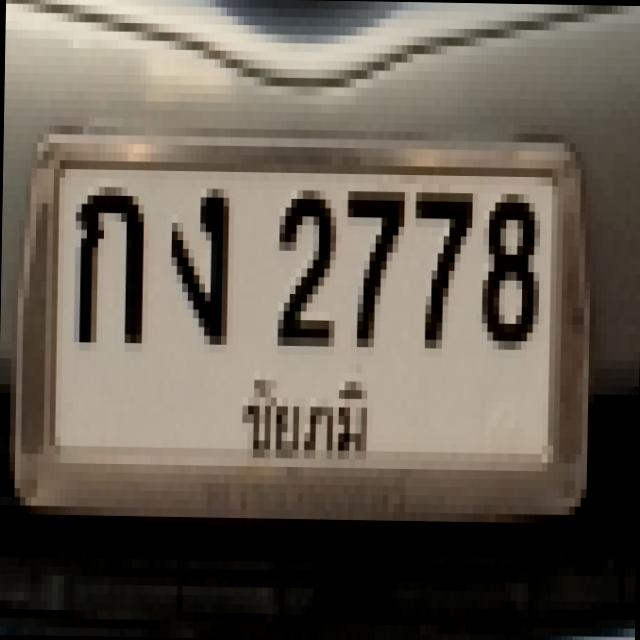license_plate: (7, 119, 596, 526)
